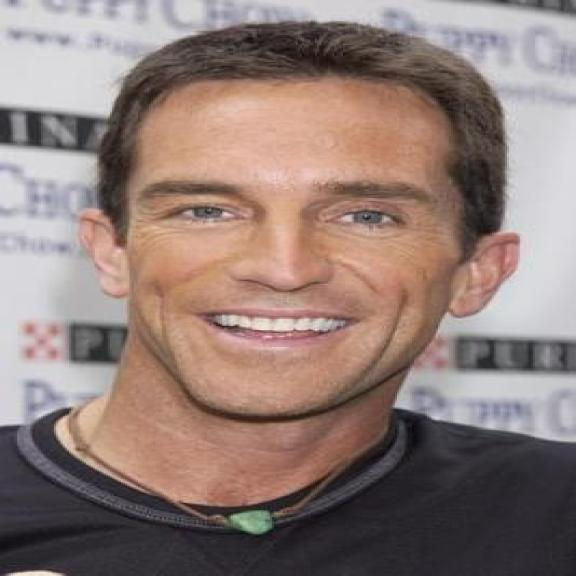face: (67, 61, 515, 426)
